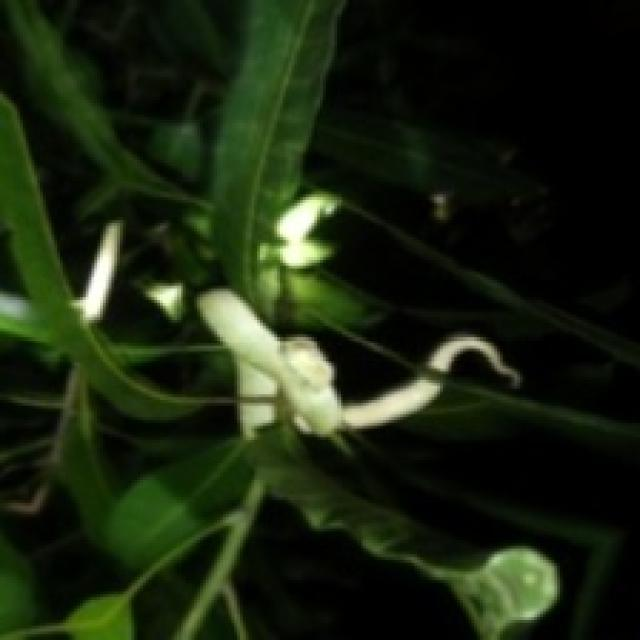north ph temple pitviper: (197, 289, 517, 434)
